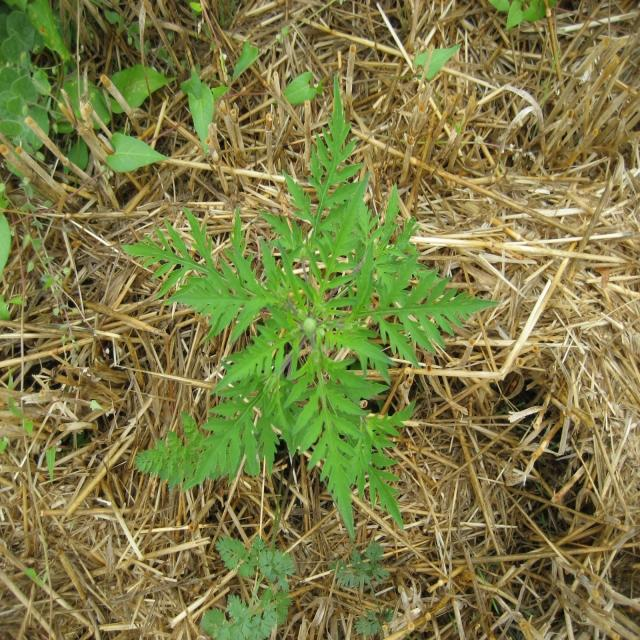ambrosia: (164, 126, 438, 512)
